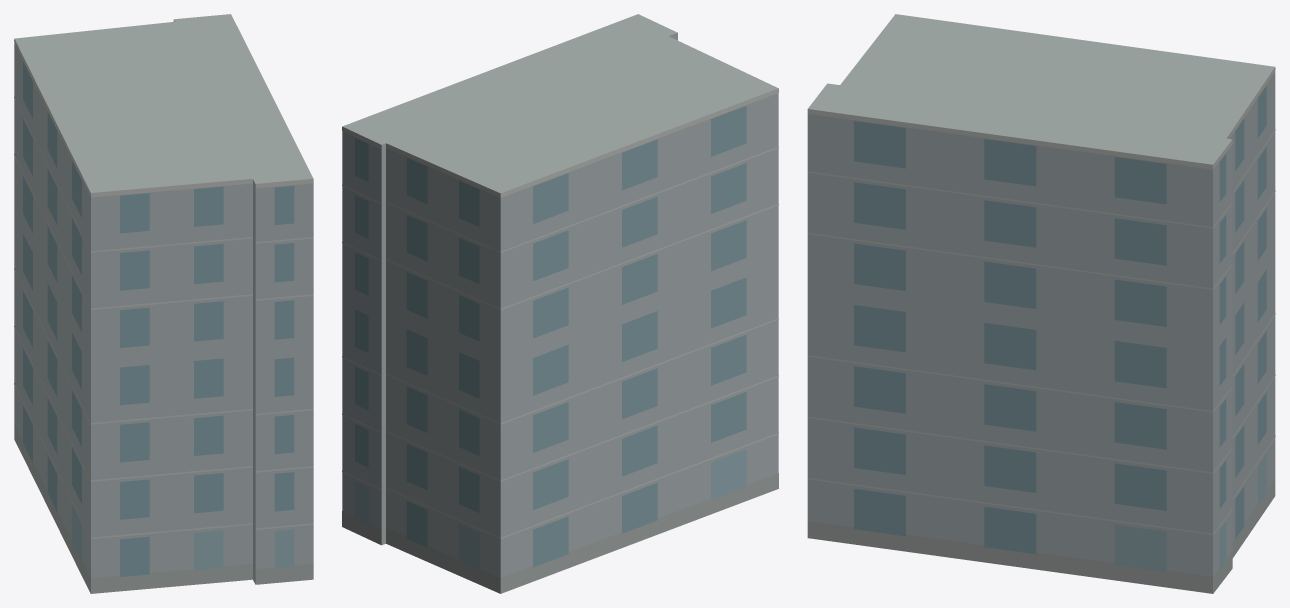
Rendered from survey-upis-33000931.glb.
The picture shows the model from 3 angles, left to right: view 1: azimuth 30°, elevation 25°; view 2: azimuth 150°, elevation 25°; view 3: azimuth 270°, elevation 25°; orthographic projection. The views are drawn at different scales.
Parts seen in each view (by area): view 1: survey-upis-33000931.tmp; view 2: survey-upis-33000931.tmp; view 3: survey-upis-33000931.tmp.
Boxes of the visible parts, x1=… form: survey-upis-33000931.tmp: x1=14, y1=14, x2=313, y2=593; survey-upis-33000931.tmp: x1=342, y1=14, x2=778, y2=593; survey-upis-33000931.tmp: x1=807, y1=14, x2=1275, y2=593.
Size of the model in its own units: 16.15 by 21.4 by 21.16.
